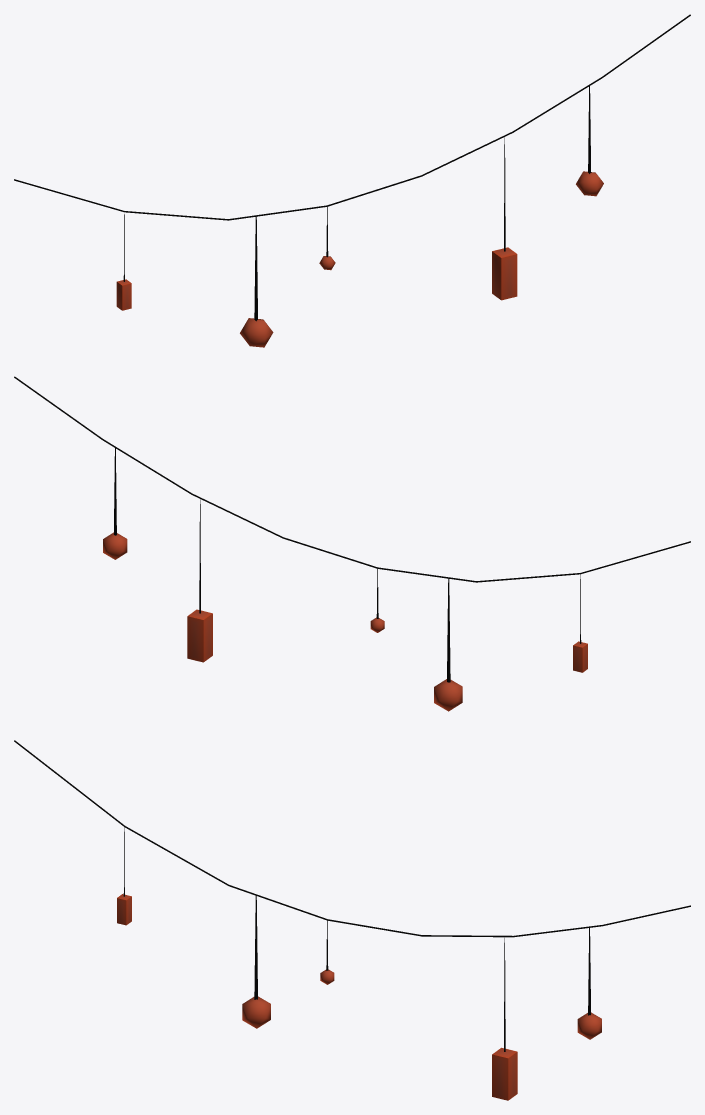
Rendered from Garland_A_5_SpherifyQuadLamps_Red.fbx.
3 views of the same model, one above another, from view 1: azimuth 30°, elevation 25°; view 2: azimuth 150°, elevation 25°; view 3: azimuth 330°, elevation 25° (orthographic).
Parts seen in each view (by area): view 1: Garland_A_5_SpherifyQuadLamps_Red; view 2: Garland_A_5_SpherifyQuadLamps_Red; view 3: Garland_A_5_SpherifyQuadLamps_Red.
Boxes of the visible parts, x1,y1,x2,y2 form: Garland_A_5_SpherifyQuadLamps_Red: (14,14,690,347); Garland_A_5_SpherifyQuadLamps_Red: (14,376,690,711); Garland_A_5_SpherifyQuadLamps_Red: (14,740,690,1100).
Size of the model in its own units: 673 by 225 by 29.13.
